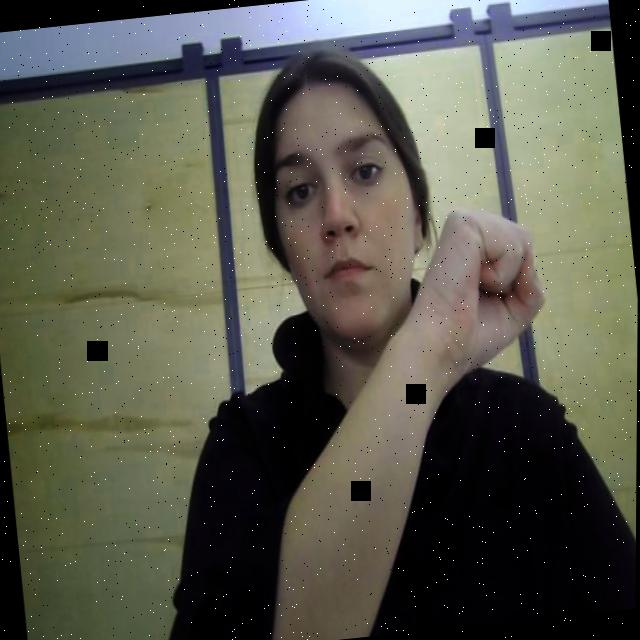Rock: (404, 198, 558, 394)
